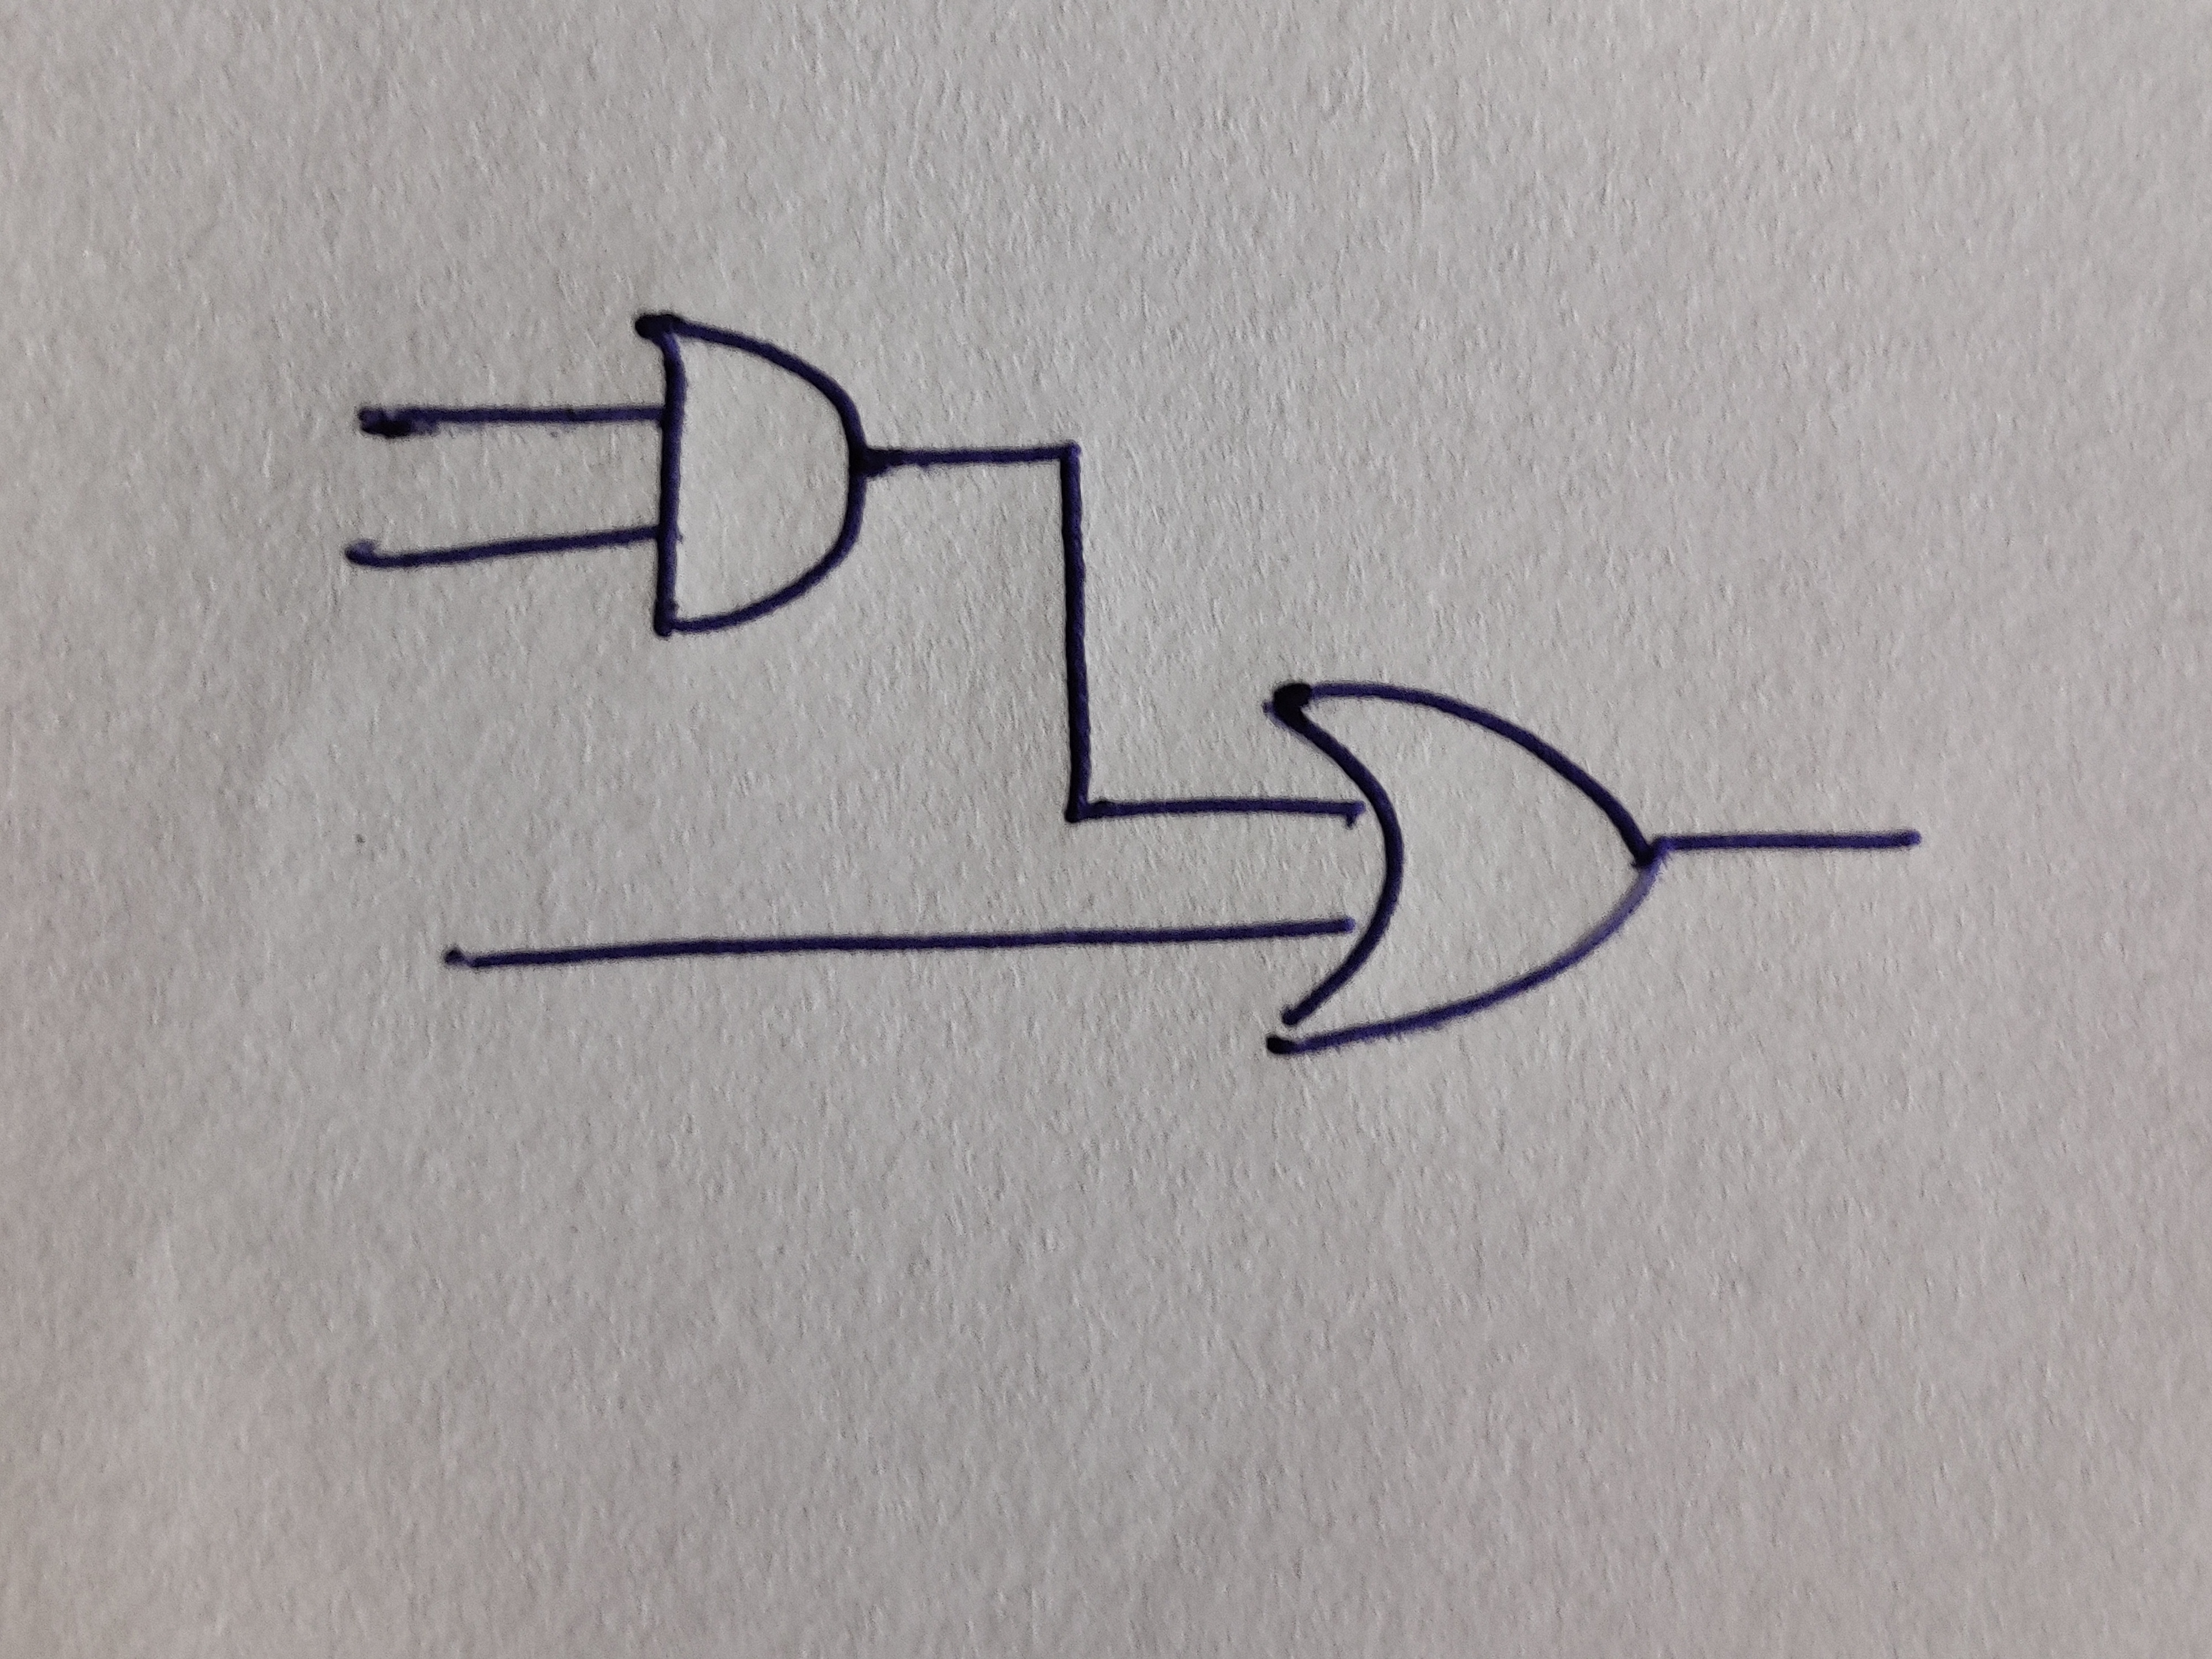and: (636, 314, 864, 640)
or: (1264, 683, 1667, 1056)
